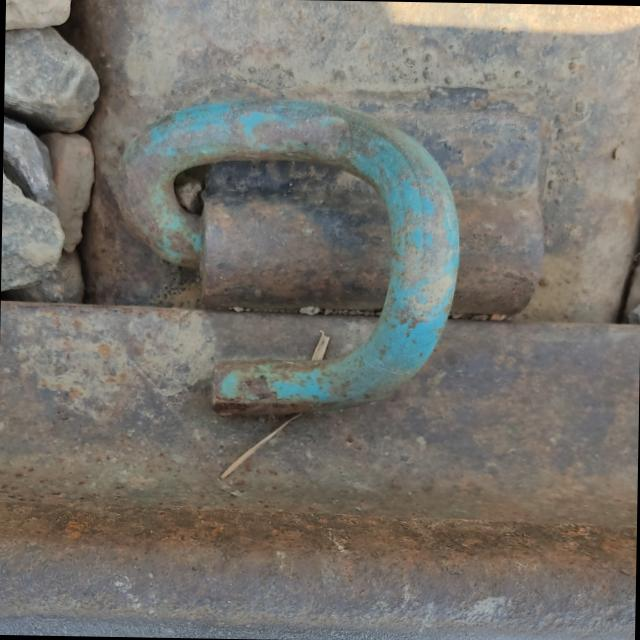track_bolt: (103, 92, 466, 423)
